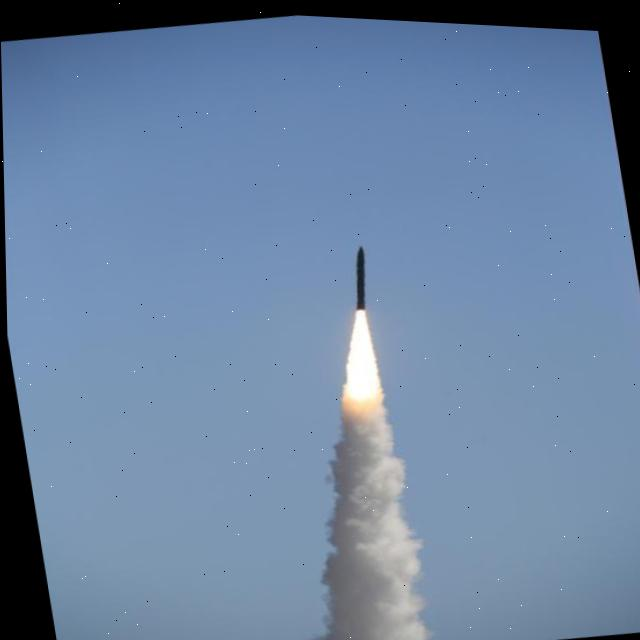missile: (336, 238, 379, 312)
